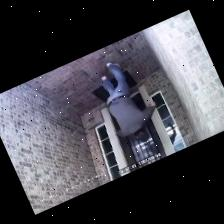person: (101, 62, 154, 141)
